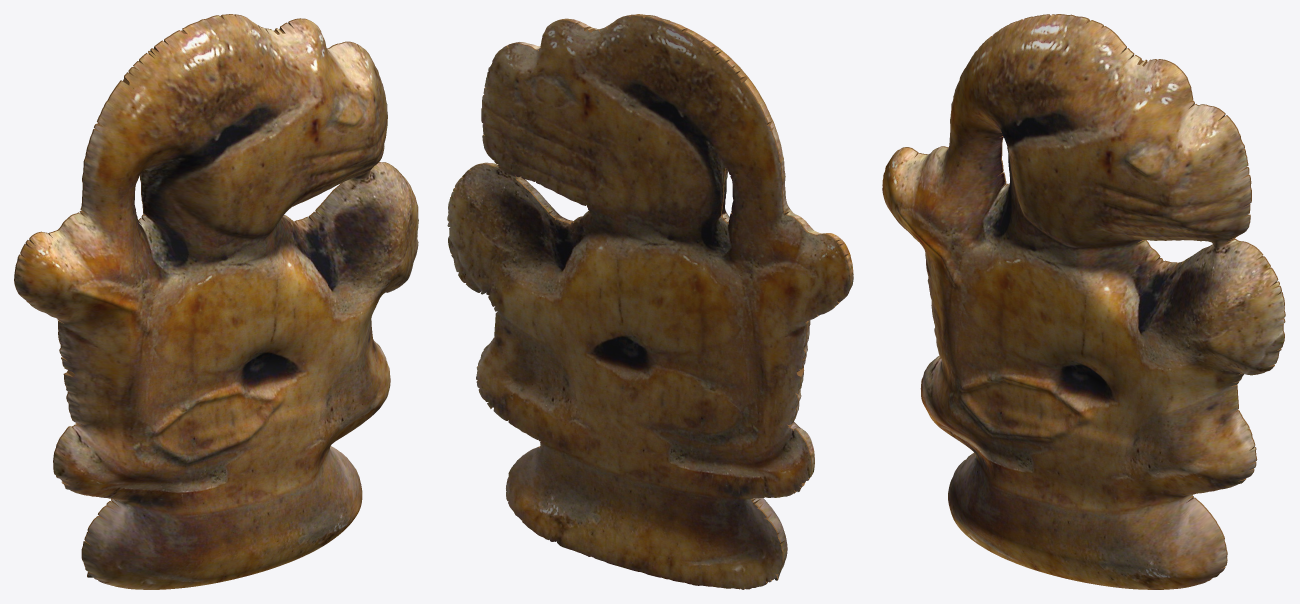
The model's file is remate_de_hueso.glb.
The picture shows the model from 3 angles, left to right: view 1: azimuth 30°, elevation 25°; view 2: azimuth 150°, elevation 25°; view 3: azimuth 330°, elevation 25°; orthographic projection.
Parts seen in each view (by area): view 1: remate_de_hueso; view 2: remate_de_hueso; view 3: remate_de_hueso.
Boxes of the visible parts, box(x1,y1,x2,y2) form: remate_de_hueso: box(14, 14, 418, 589); remate_de_hueso: box(447, 14, 853, 589); remate_de_hueso: box(882, 14, 1285, 589).
Size of the model in its own units: 8.07 by 10.66 by 1.37.
Materials: 1 (1 with a texture image).
